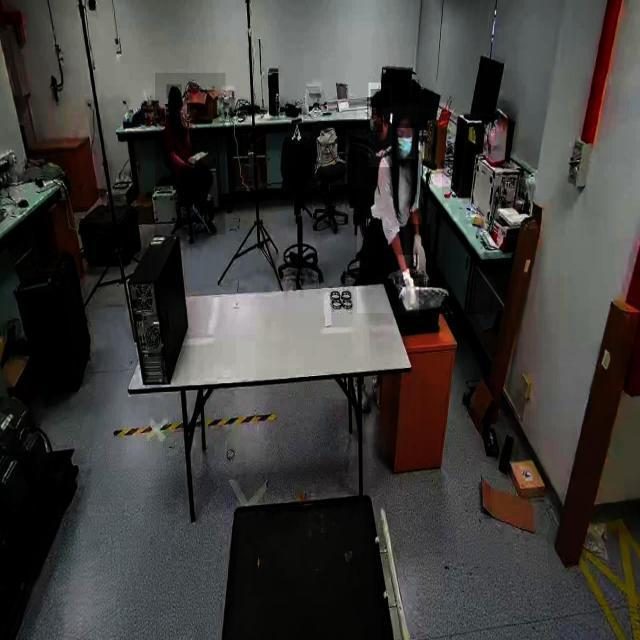gloves: (398, 255, 419, 317), (411, 224, 432, 278)
